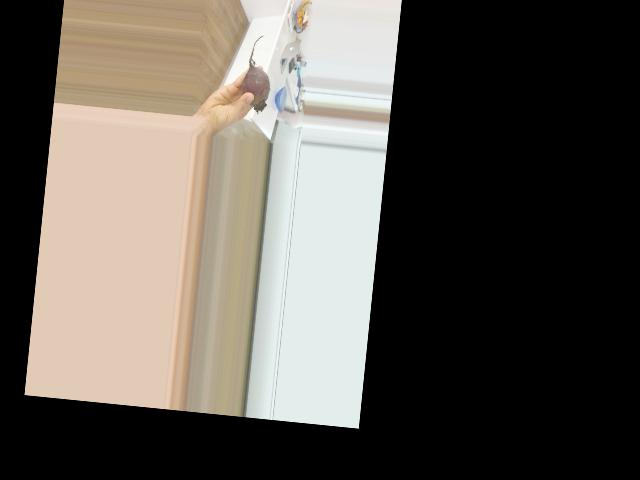beet: (239, 33, 274, 114)
